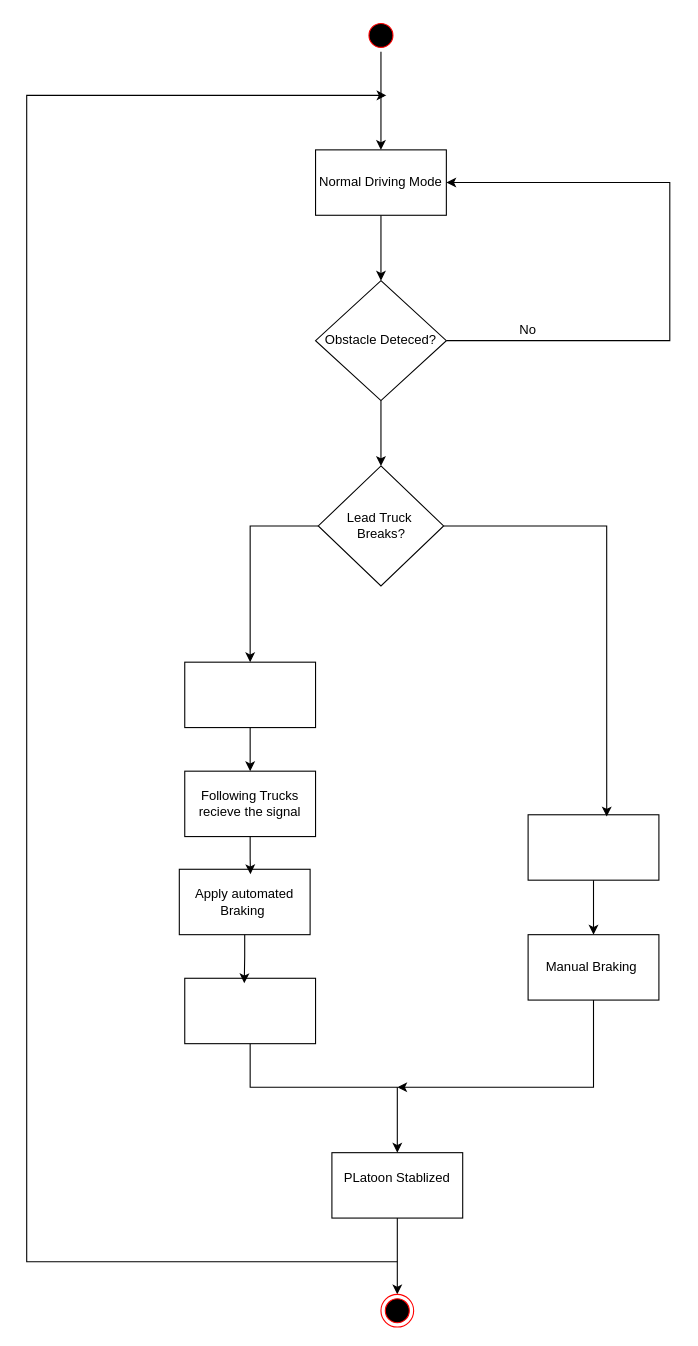
This 698x1346 diagram has some shape labels left out. Each missing label, with the centre of its shape:
Decelerate at 5ms 2: the point at 250,1010
Human Intervens: the point at 593,847
Transmit a V2V Braking Signal: the point at 250,694
